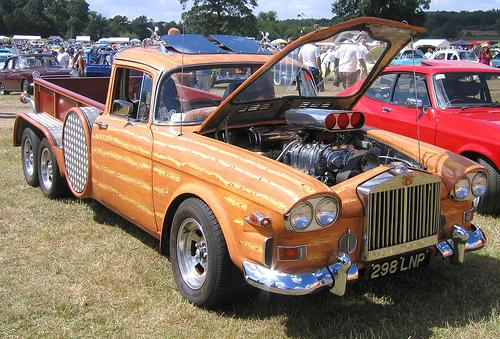truck: (12, 16, 490, 311)
